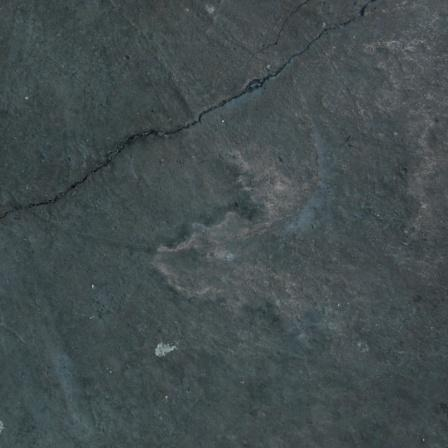crack: (0, 0, 386, 242), (209, 0, 321, 89)
